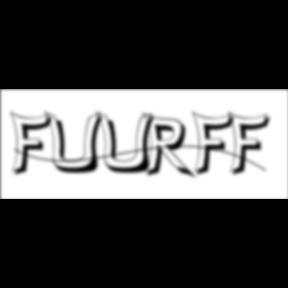F: (10, 110, 58, 178), (192, 110, 240, 178), (228, 110, 276, 178)
R: (142, 112, 200, 182)
U: (44, 110, 108, 176), (96, 110, 160, 176)
